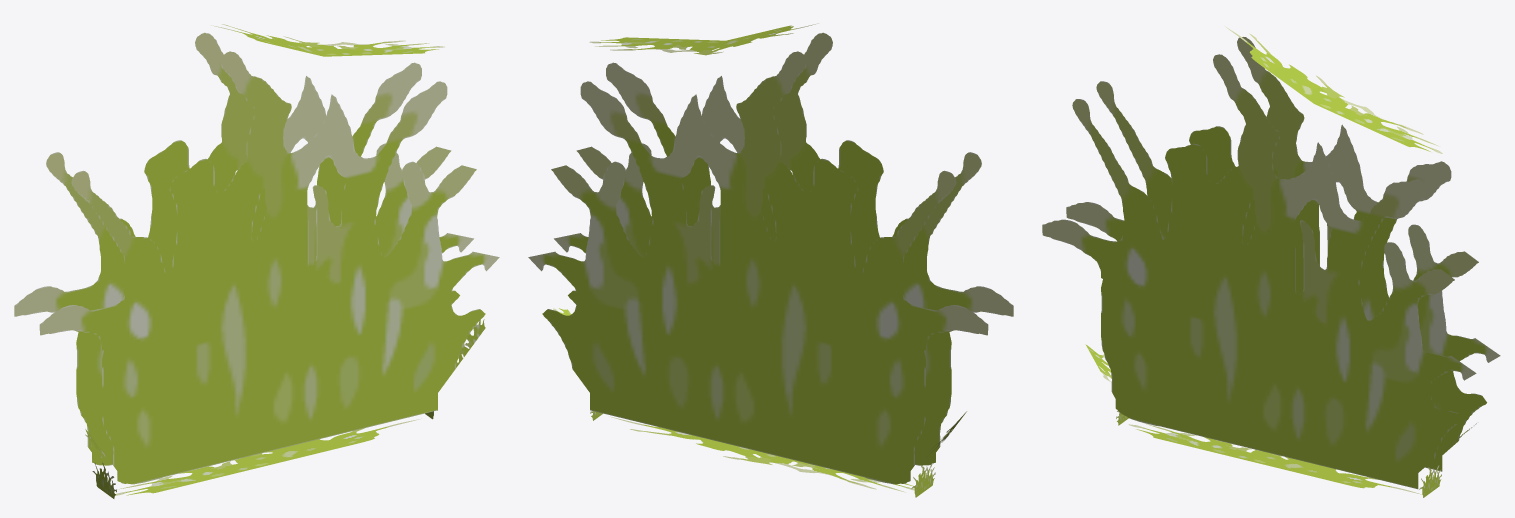
The model's file is grace01.FBX.
The picture shows the model from 3 angles, left to right: view 1: azimuth 30°, elevation 25°; view 2: azimuth 150°, elevation 25°; view 3: azimuth 330°, elevation 25°; orthographic projection. The views are drawn at different scales.
Visible parts, largest first — view 1: Box001; view 2: Box001; view 3: Box001.
Boxes of the visible parts, x1,y1,x2,y2 form: Box001: [14, 24, 499, 498]; Box001: [528, 23, 1013, 497]; Box001: [1042, 26, 1500, 497].
Size of the model in its own units: 26.13 by 24.23 by 2.5.
1 material, 1 textured.
